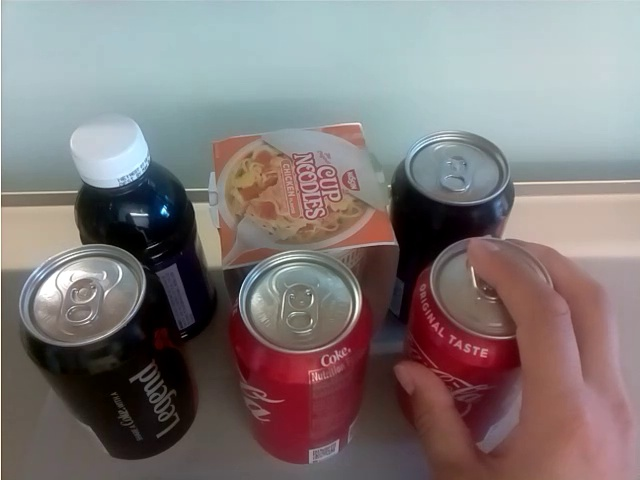cocacola: (16, 240, 200, 465), (222, 250, 373, 469), (408, 237, 551, 446), (391, 131, 516, 239)
hand: (395, 237, 640, 480)
juice: (65, 111, 212, 342)
noodles: (201, 114, 394, 340)
